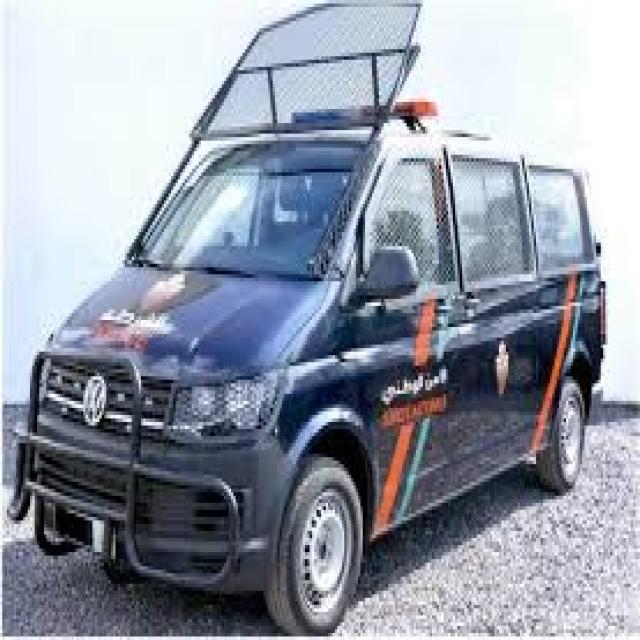police: (23, 71, 602, 639)
